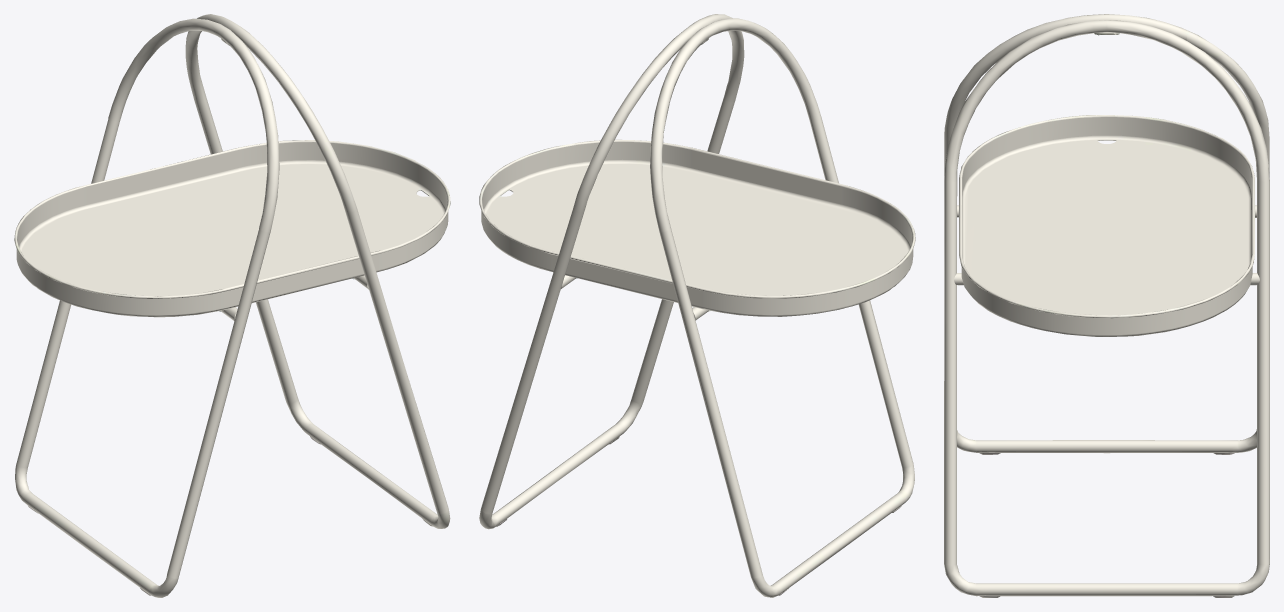
The model's file is mabarsskar-mesa-de-centro-exterior-interiorblanco.glb.
3 views of the same model, side by side, from view 1: azimuth 30°, elevation 25°; view 2: azimuth 150°, elevation 25°; view 3: azimuth 270°, elevation 25° (orthographic). The views are drawn at different scales.
Visible parts, largest first — view 1: ASY_ART_30597164_S01_NV01; view 2: ASY_ART_30597164_S01_NV01; view 3: ASY_ART_30597164_S01_NV01.
Part boxes in pixels (box(x1,y1,x2,y2)): ASY_ART_30597164_S01_NV01: box(14, 14, 450, 597); ASY_ART_30597164_S01_NV01: box(479, 14, 915, 597); ASY_ART_30597164_S01_NV01: box(944, 14, 1269, 597).
Bounding box in the file's own units: 0.6075 × 0.7134 × 0.4144.
Materials: 1 (1 with a texture image).
